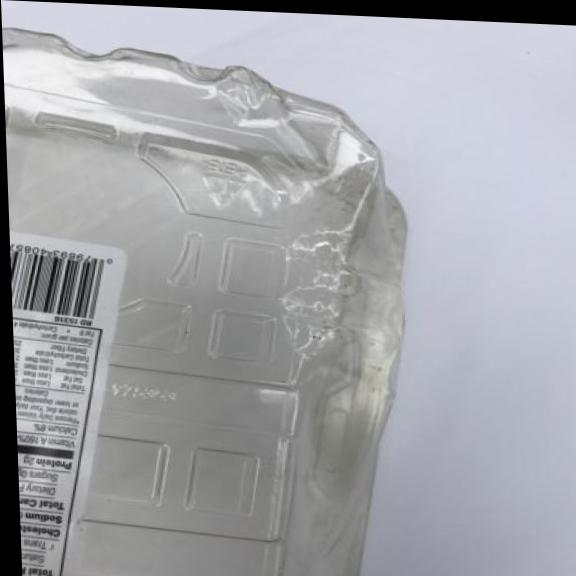Plastik: (1, 27, 426, 576)
